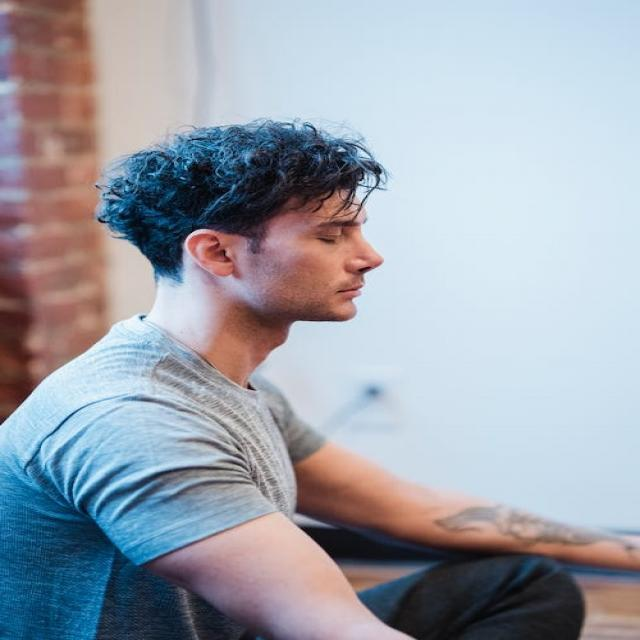Healthy: (151, 267, 289, 381)
